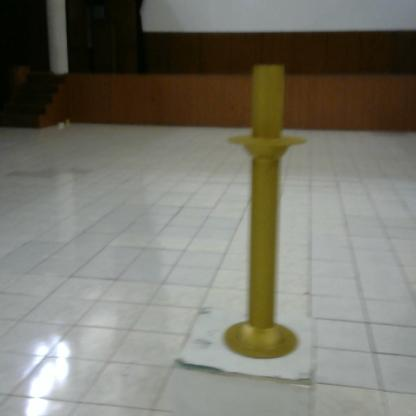pole: (214, 54, 314, 366)
